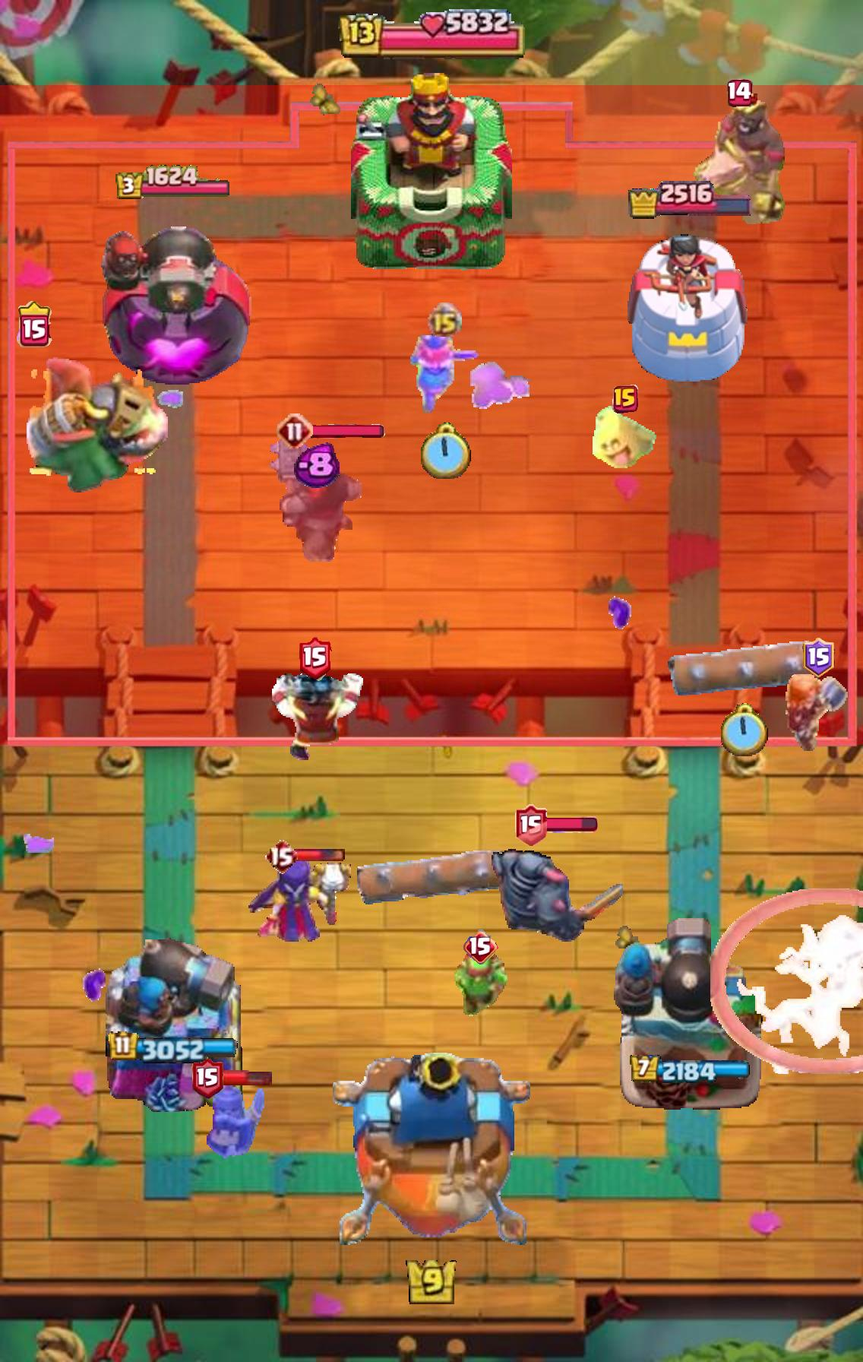elixir: (292, 442, 340, 489)
